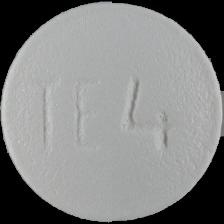63187-682: (0, 0, 224, 224)
